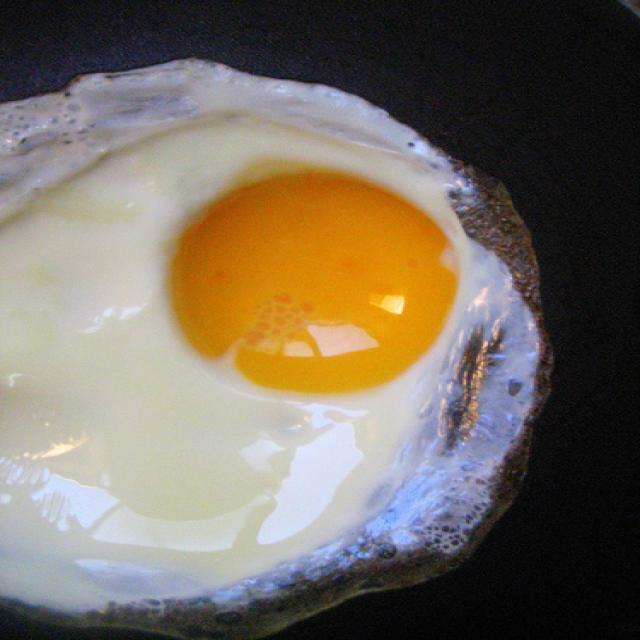Egg: (0, 61, 550, 609)
